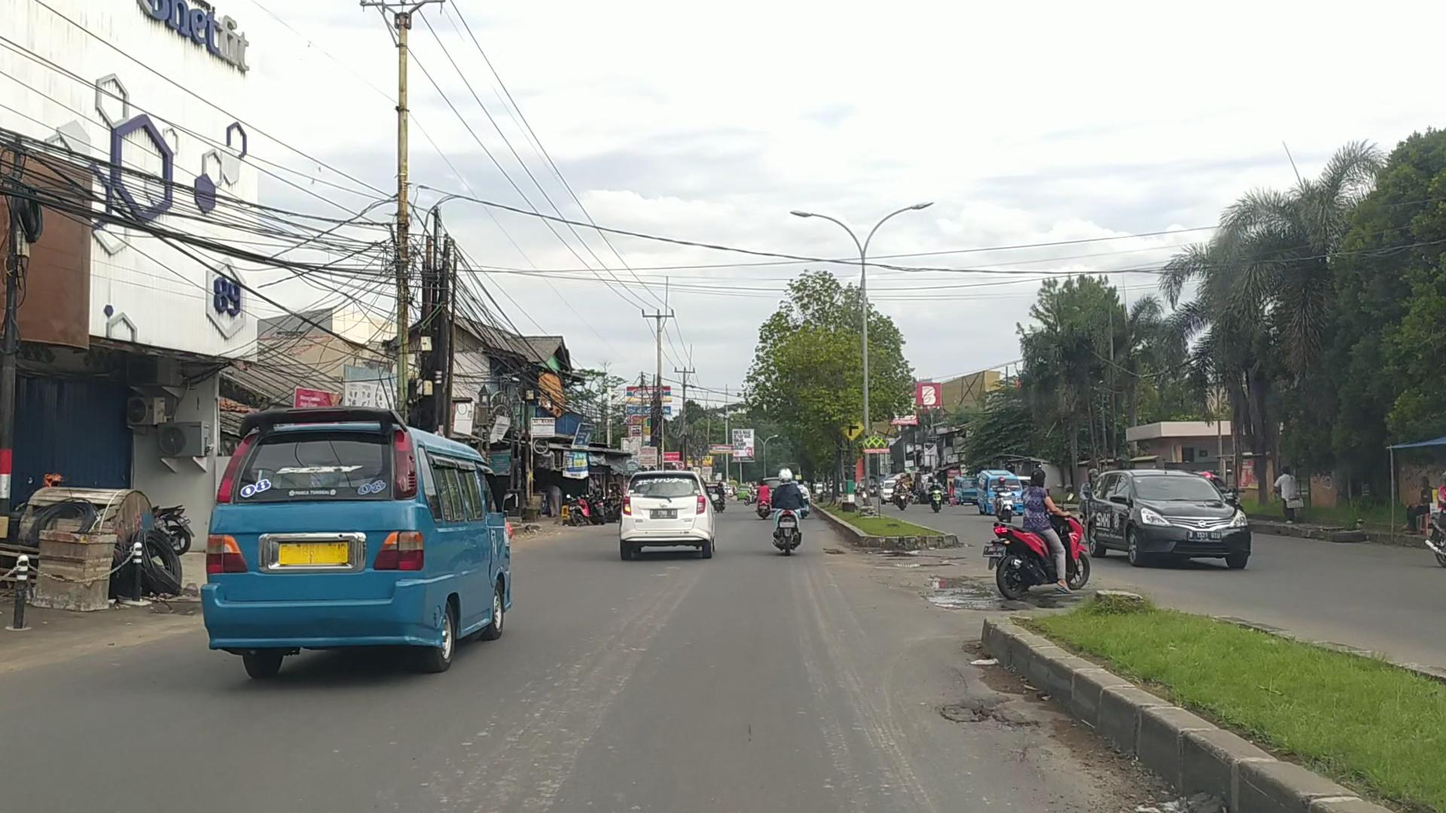pothole: (922, 574, 1020, 612), (936, 700, 1038, 729), (823, 547, 846, 556)
